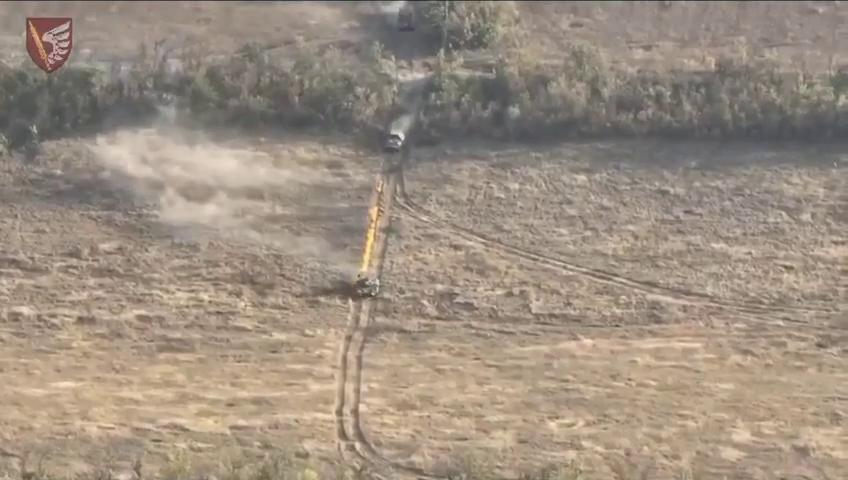tank: (354, 270, 382, 299), (384, 125, 408, 156), (397, 6, 417, 37)
